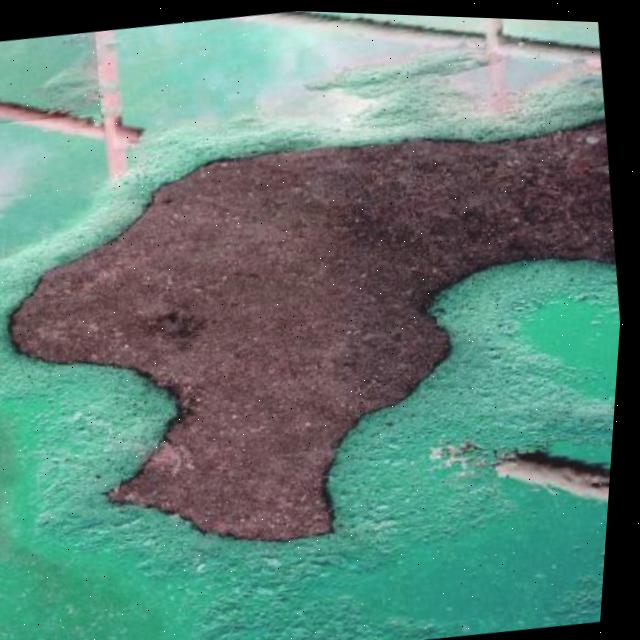spillage: (0, 9, 624, 640), (0, 32, 102, 113)
